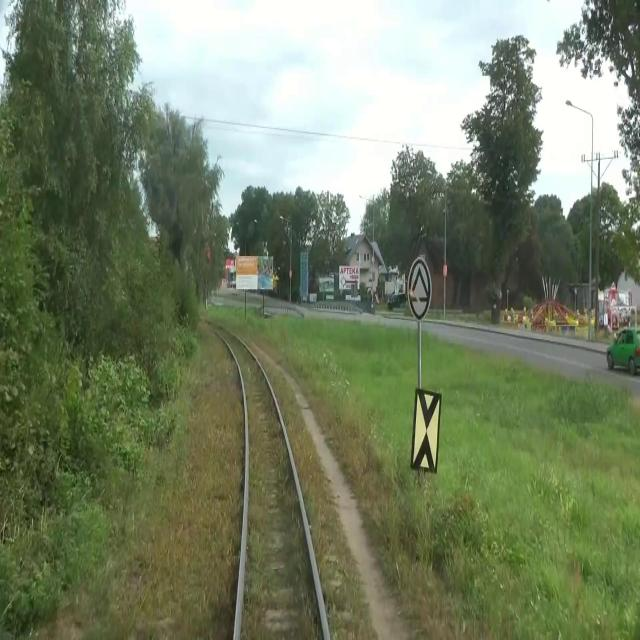rail-track: (215, 326, 324, 639)
